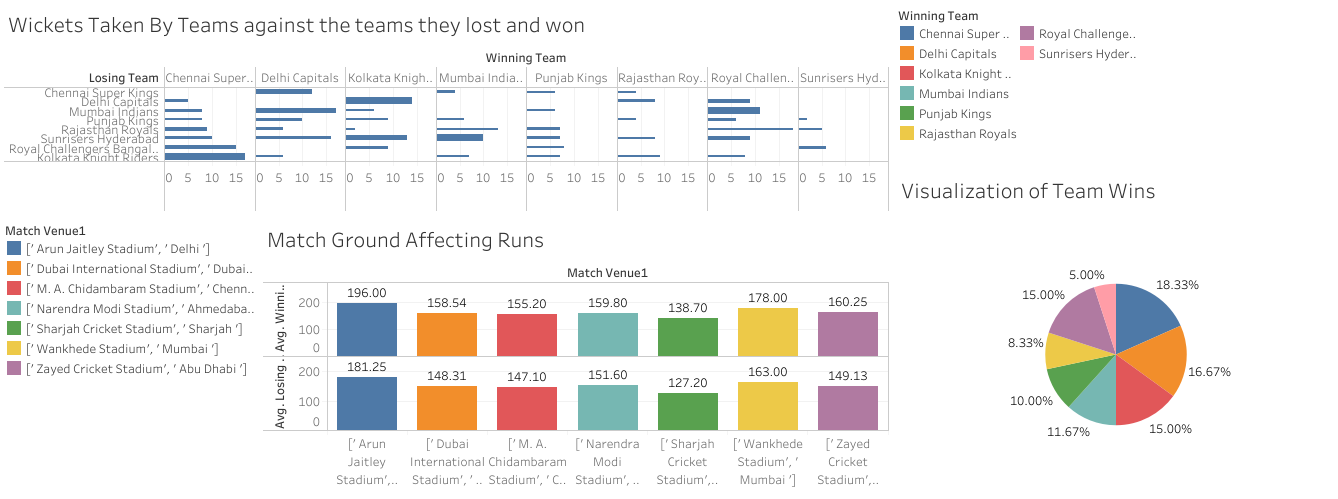

Layout of this report page (visuals, bound fields, positions):
{"tool":"tableau","page":{"name":"IPL DATA Dashboard","canvas":[1000,1000],"units":"permille","ordinal":0},"visuals":[{"type":"worksheet","title":"Wickets Taken By Teams against the teams they lost and won","mark":"Automatic","rows":["Losing Team"],"cols":["Winning Team","Wickets taken by Winning Team"],"box":[0,0,666.7,429]},{"type":"legend","title":"Visualization of Team Wins","param":"[federated.02wlw5t04s5qld1bo5t6j049g8nd].[none:Winning Team:nk]","box":[666.7,0,333.3,332.8]},{"type":"worksheet","title":"Visualization of Team Wins","mark":"Pie","box":[666.7,332.8,333.3,667.2]},{"type":"legend","title":"Match Ground Affecting Runs","param":"[federated.02wlw5t04s5qld1bo5t6j049g8nd].[none:Match Venue:nk]","box":[0,429,193.2,571]},{"type":"worksheet","title":"Match Ground Affecting Runs","mark":"Automatic","rows":["Winning Team Score","Losing Team Score"],"cols":["Match Venue"],"box":[193.2,429,473.4,571]}]}

Visuals, with their boxes on the dashboard's canvas, which has no fixed pixel size, in thousandths of its width and height (x1, y1, x2, y2). These are canvas units, not pixel positions in the 1338x499 screenshot, which may show the page scaled, cropped or inside an application window:
"Wickets Taken By Teams against the teams they lost and won" worksheet: 0, 0, 667, 429
"Visualization of Team Wins" legend: 667, 0, 1000, 333
"Visualization of Team Wins" worksheet (Pie marks): 667, 333, 1000, 1000
"Match Ground Affecting Runs" legend: 0, 429, 193, 1000
"Match Ground Affecting Runs" worksheet: 193, 429, 667, 1000
